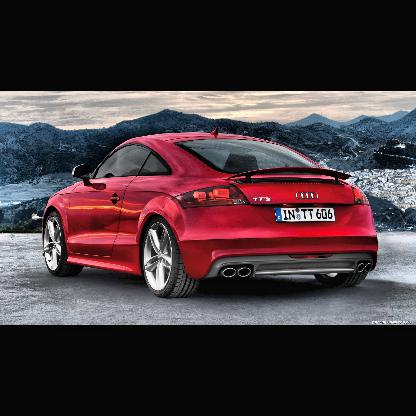Audi TTS Coupe 2012: (40, 125, 378, 297)
